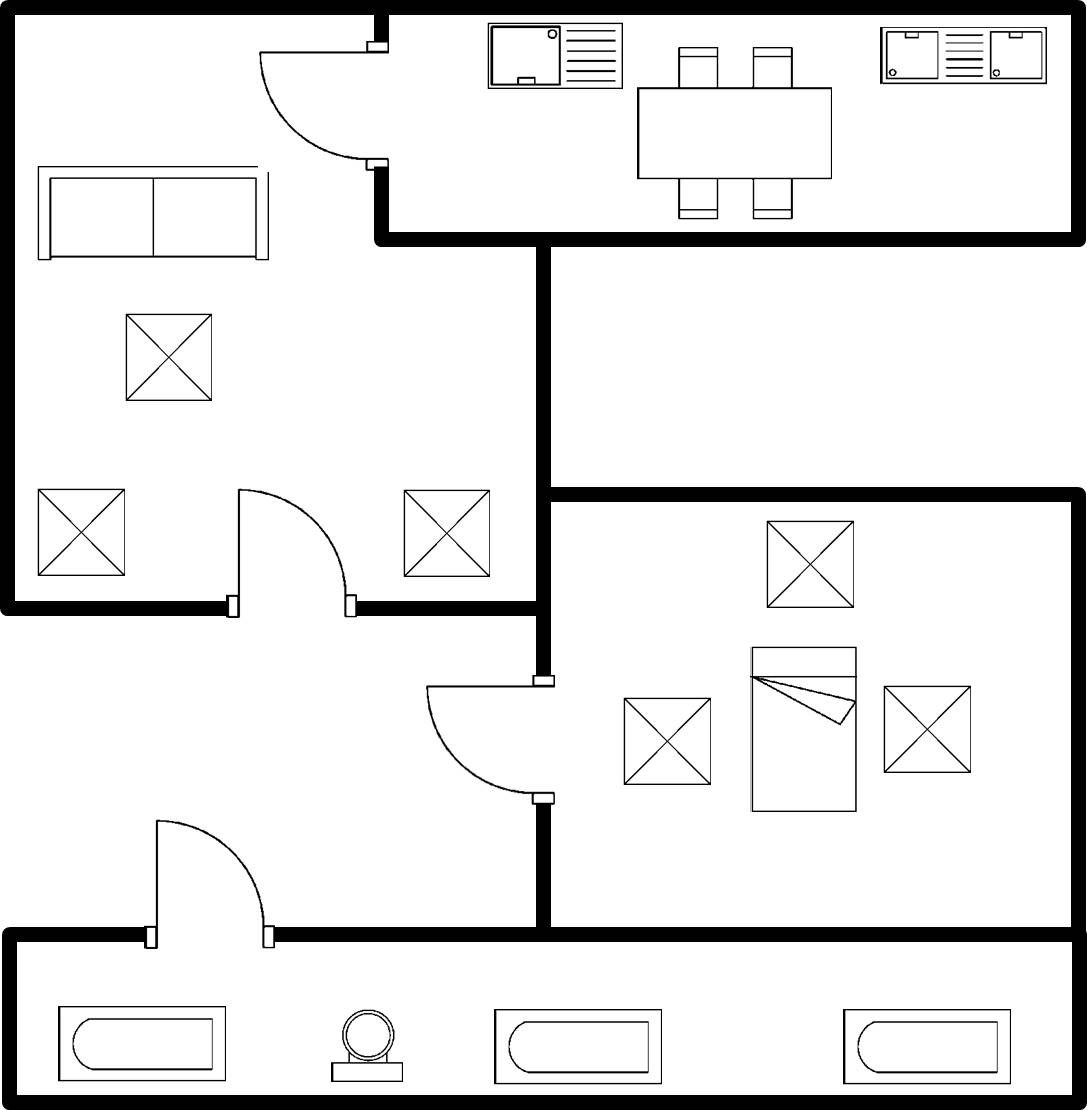bed: (739, 636, 865, 820)
coffee_table: (872, 680, 986, 781), (755, 515, 865, 619), (613, 689, 720, 795), (29, 481, 133, 586), (395, 481, 499, 585), (118, 307, 223, 410)
dining_table: (624, 37, 840, 227)
large_sink: (324, 1003, 414, 1091)
large_sofa: (28, 159, 275, 272)
sink: (479, 18, 630, 101)
tub: (482, 999, 670, 1092), (46, 999, 238, 1089), (833, 1004, 1021, 1093)
twin_sink: (870, 20, 1053, 97)
